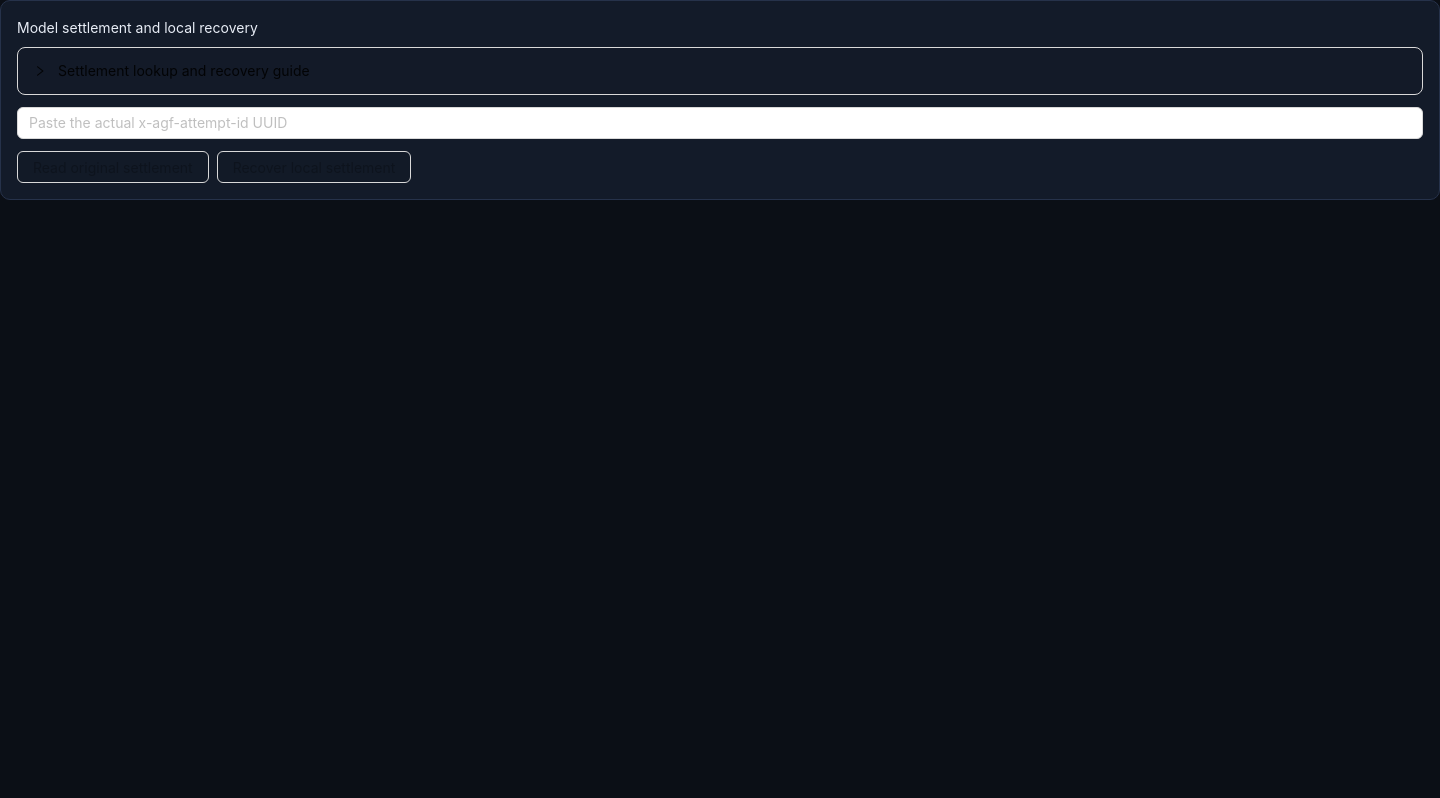
Test: keeps lookup available for readers and explains the actual header, original identity and no model replay
In the field named "Original model attempt ID": x=720, y=123 [17,107,1423,139], type "957a5c39-28a3-4a45-a830-6855f4763730"
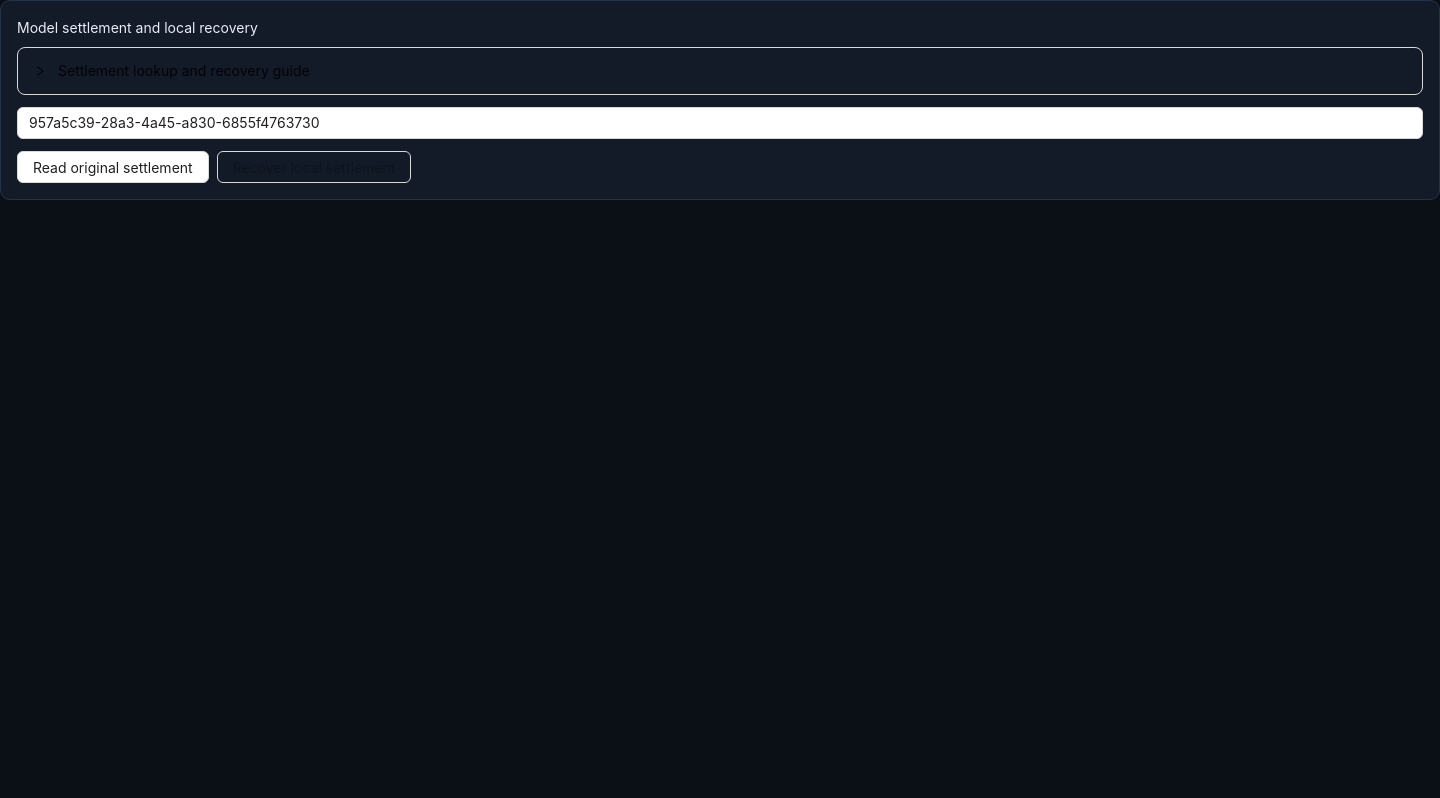
Click the button "Read original settlement": x=113, y=167 [17,151,209,183]
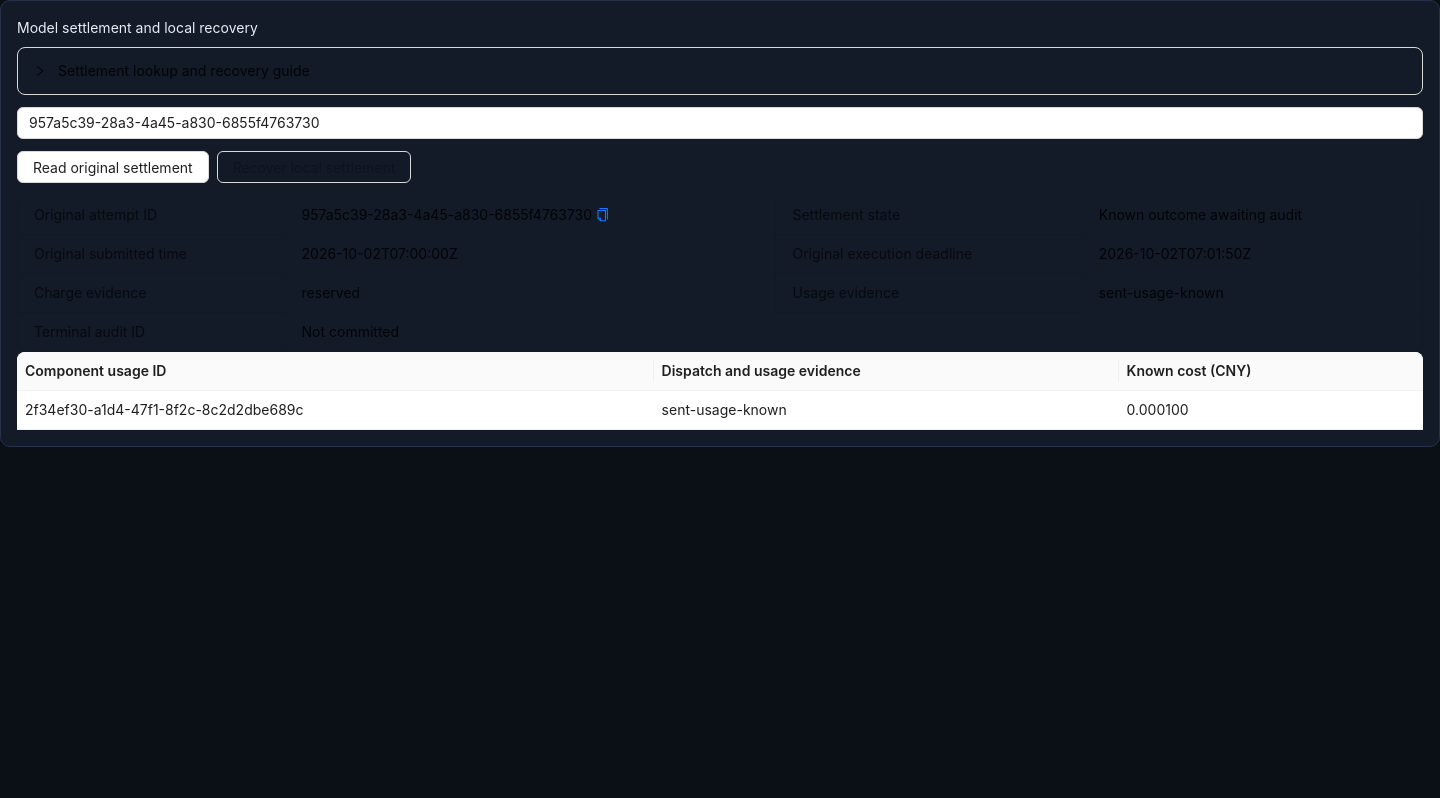
Expected: the text "Known outcome awaiting audit" is shown, [1099,206,1302,223]
Expected: the button "Recover local settlement" is disabled, [217,151,411,183]
Click the button "Settlement lookup and recovery guide": x=172, y=70 [34,62,310,79]
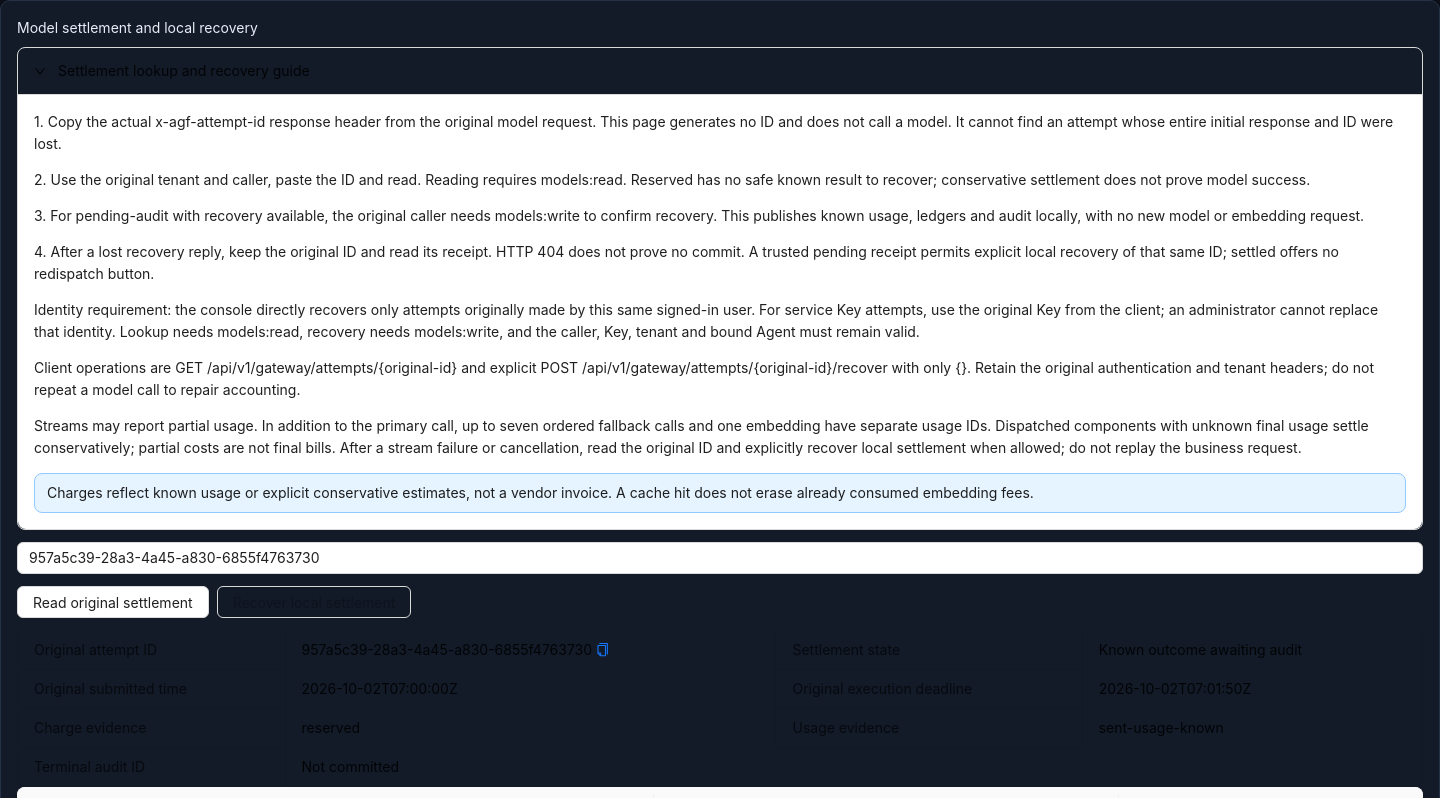
Expected: the text "Copy the actual x-agf-attempt-id" is shown, [34,113,1393,152]
Expected: the text "original caller needs models:write" is shown, [34,207,1364,224]
